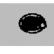correct: (15, 8, 50, 36)
